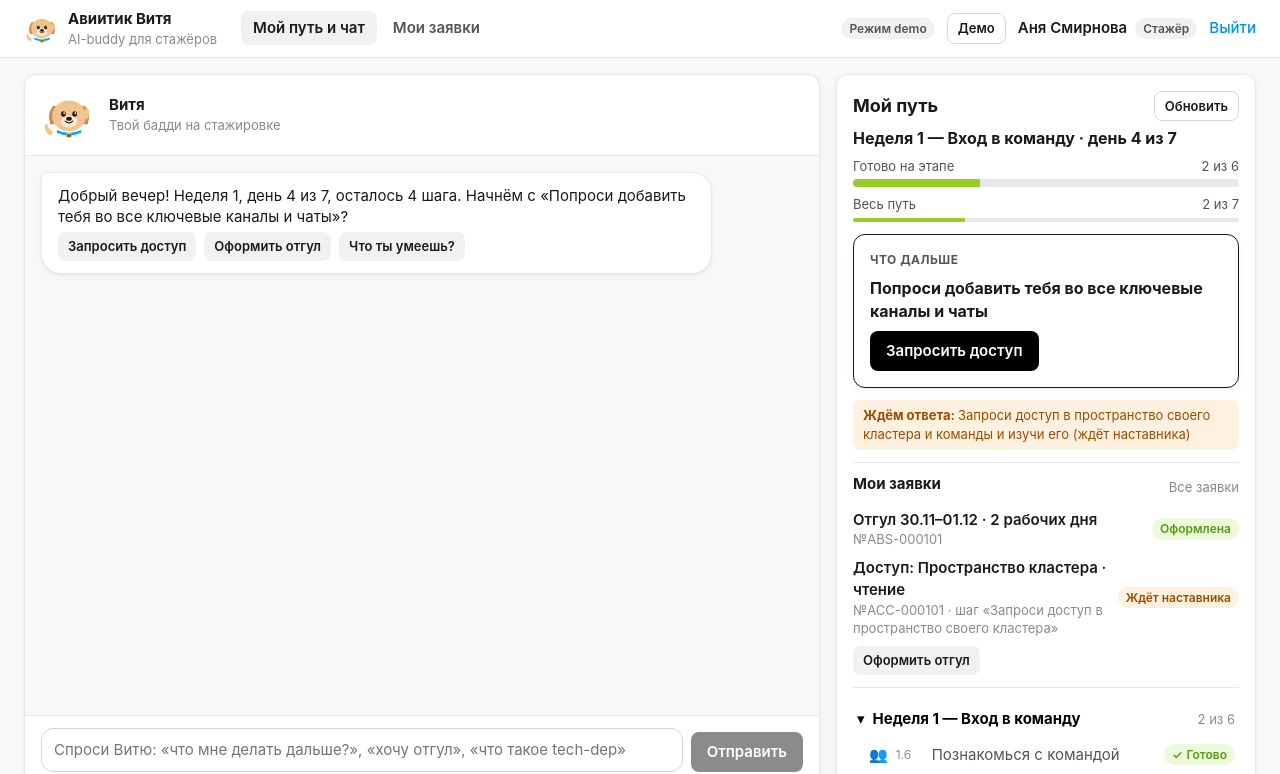
Test: chat (wave 4) › network failure → «Повторить» resends the same client_message_id (09 §2.1, F-15)
Expected: the element with test id "greeting" is shown, x1=41 y1=172 x2=712 y2=274
Type "хочу отгул" into the text box named "Сообщение Вите".
click(362, 750); type("хочу отгул")  # box x1=41 y1=728 x2=683 y2=772
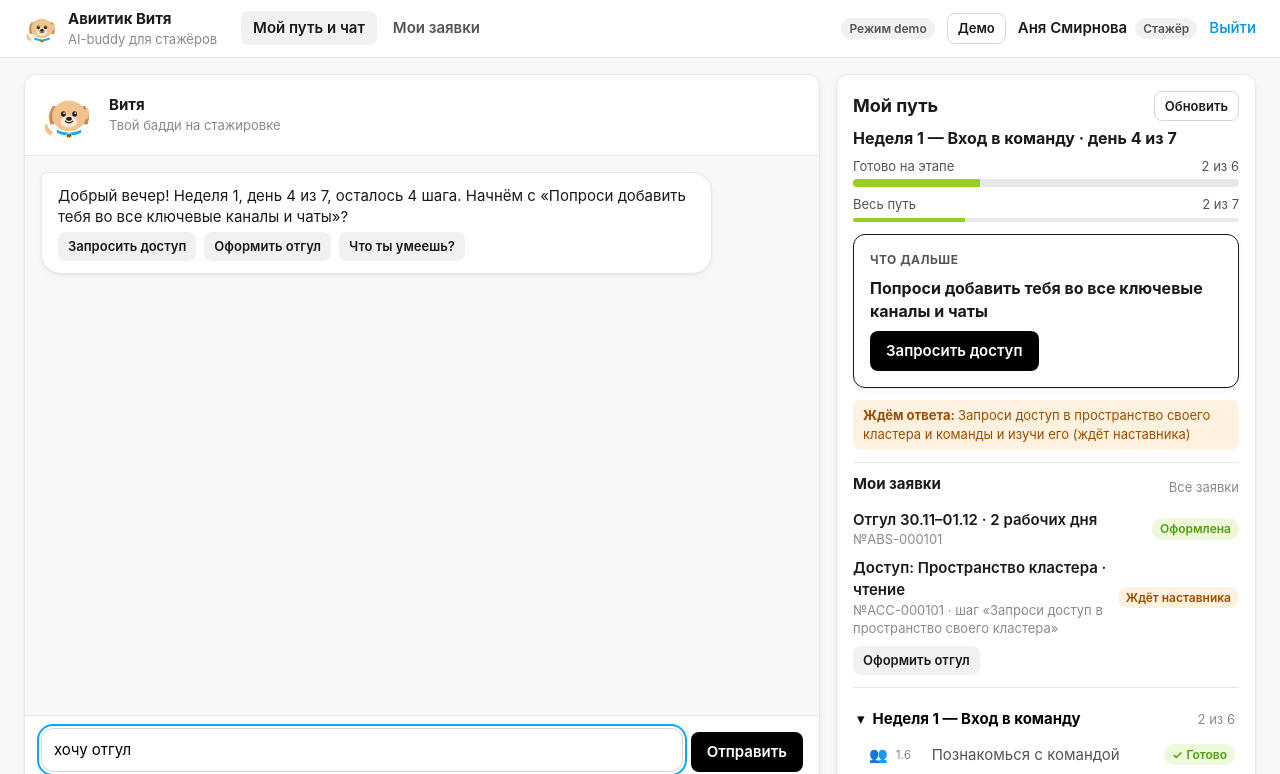
Click the button "Отправить".
click(747, 752)  # box x1=691 y1=732 x2=803 y2=772
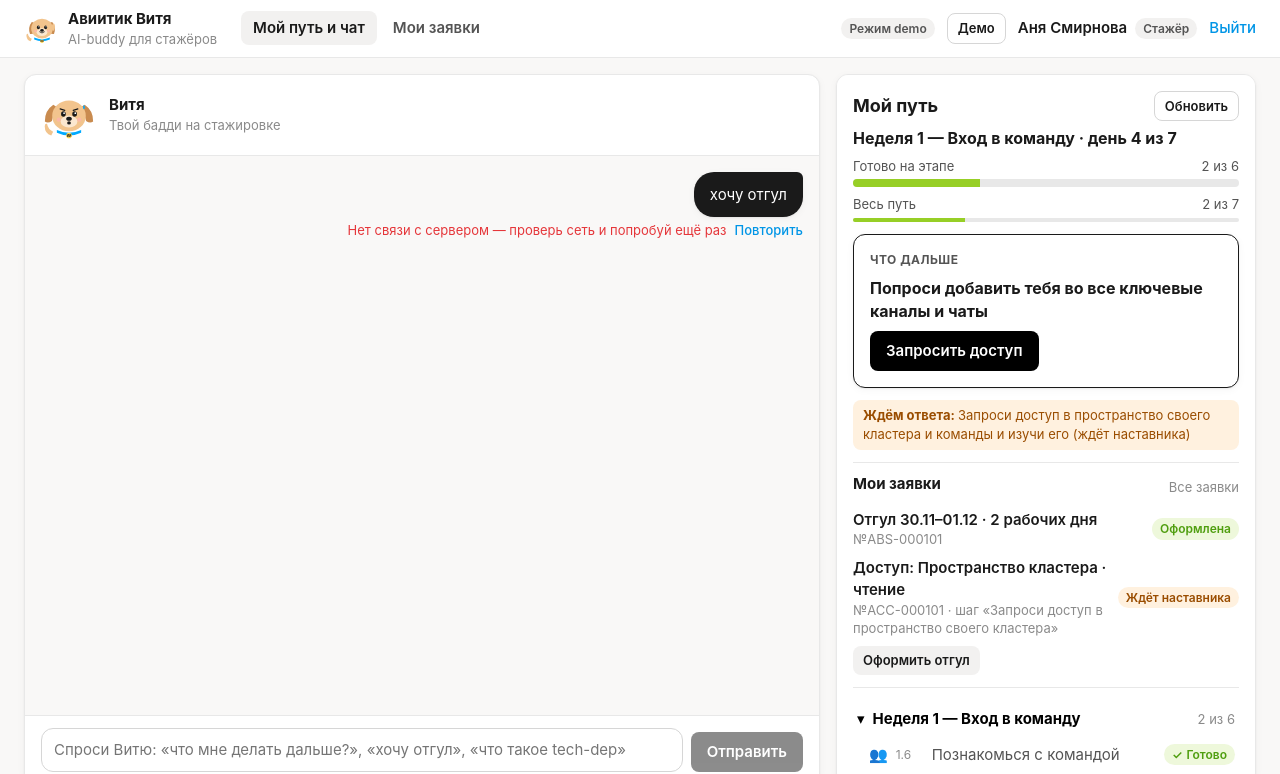
Result: the message shows "Нет связи" at x1=348 y1=222 x2=726 y2=238
Click the button "Повторить".
click(769, 231)  # box x1=734 y1=221 x2=803 y2=240
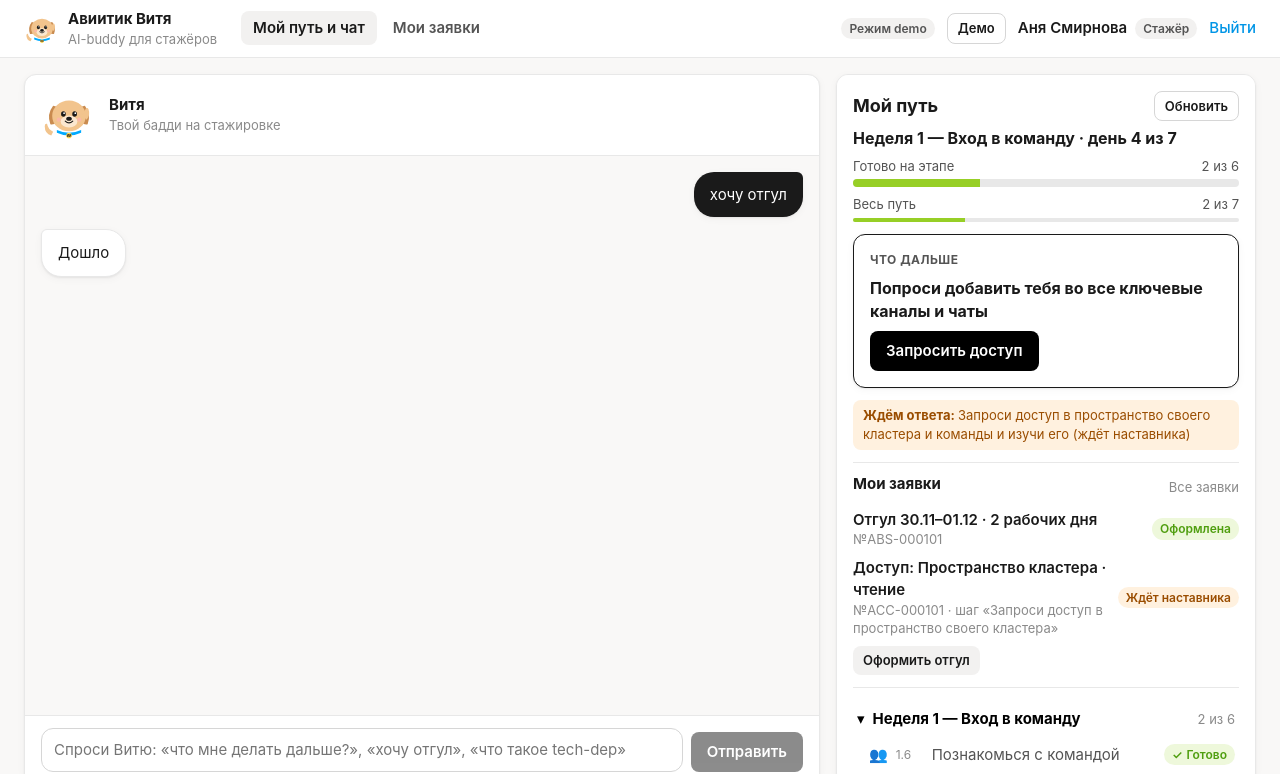
Result: the text "Дошло" is shown at x1=58 y1=243 x2=109 y2=262
Result: the message "Нет связи с сервером — проверь сеть и попробуй ещё раз Повторить" is gone
